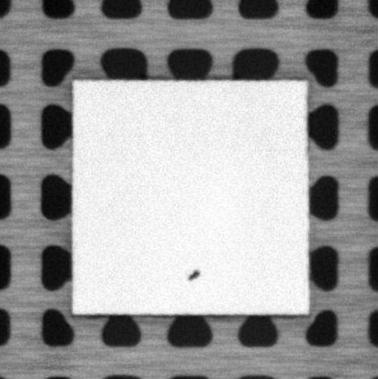DIE_INK: (187, 268, 203, 282)
